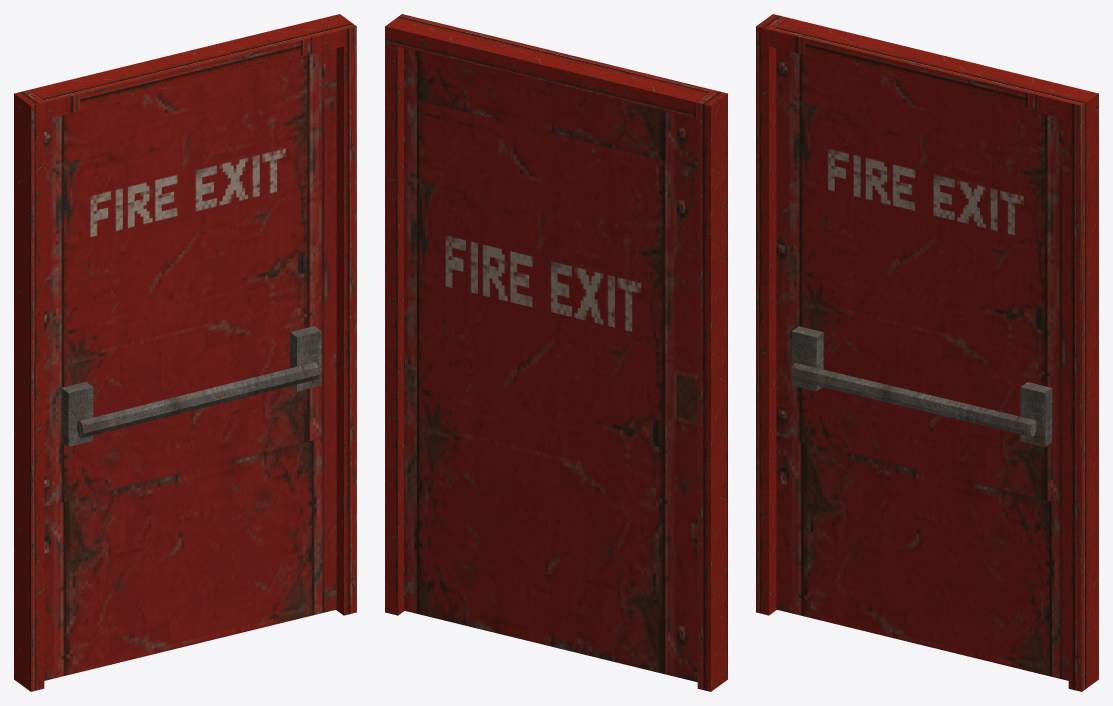
The model's file is firedoor.fbx.
The picture shows the model from 3 angles, left to right: view 1: azimuth 30°, elevation 25°; view 2: azimuth 150°, elevation 25°; view 3: azimuth 330°, elevation 25°; orthographic projection.
Visible parts, largest first — view 1: pPlane2; view 2: pPlane2; view 3: pPlane2.
Boxes of the visible parts, bbox=[...] form: pPlane2: bbox=[14, 14, 356, 691]; pPlane2: bbox=[385, 14, 727, 691]; pPlane2: bbox=[756, 14, 1098, 691].
Bounding box in the file's own units: 2.02 × 3.47 × 0.2732.
